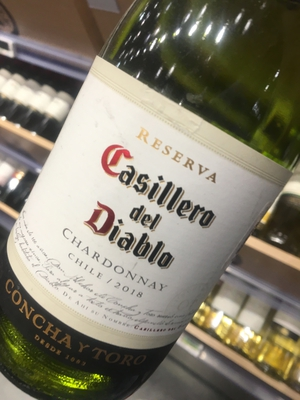casillero del diablo chardonnay: (2, 57, 290, 400)
